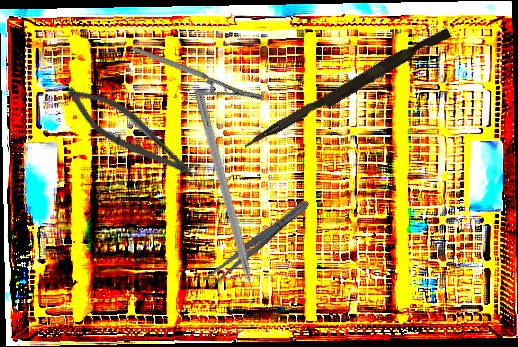Chopper: (181, 89, 263, 317)
Dressing Forceps: (201, 196, 313, 291)
Micro Scissor: (56, 76, 208, 188)
Needle Holder: (130, 10, 265, 135)
Pusher: (242, 21, 452, 158)
